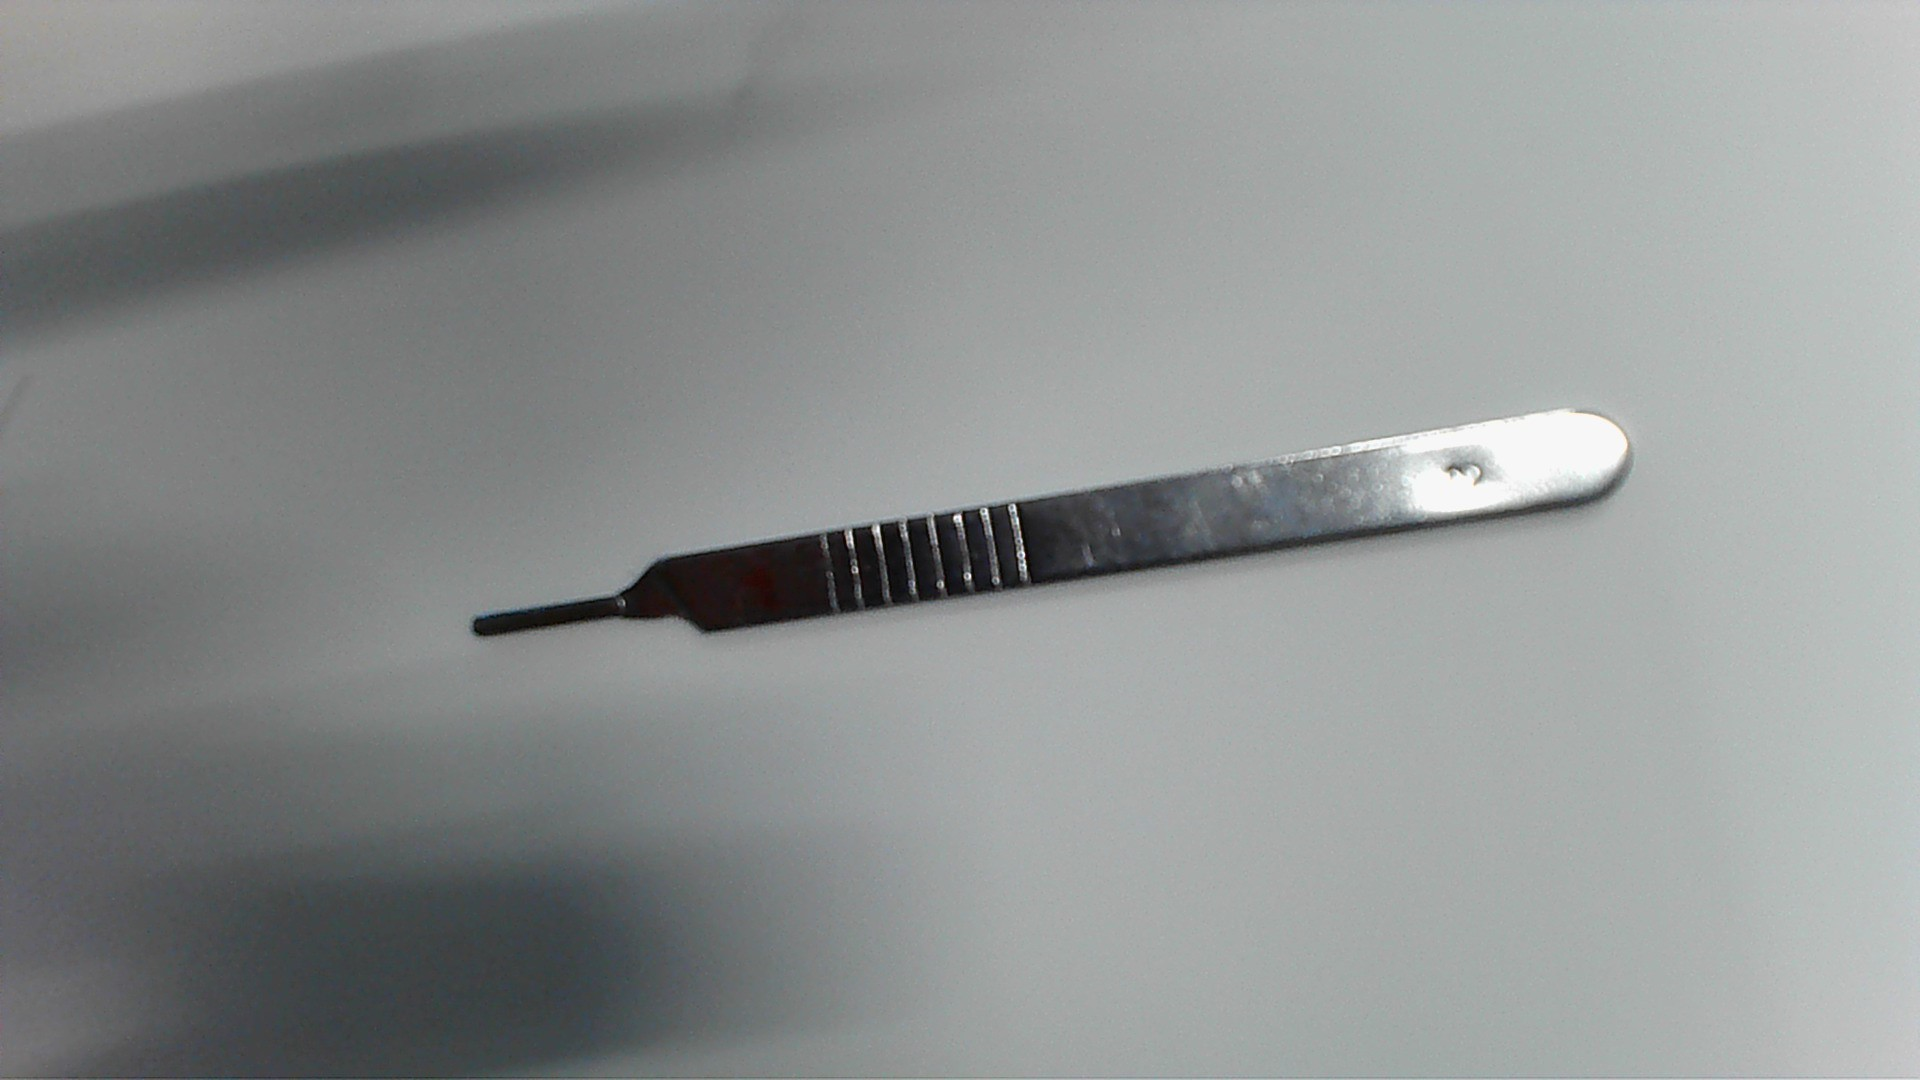Stain: (737, 553, 785, 607)
